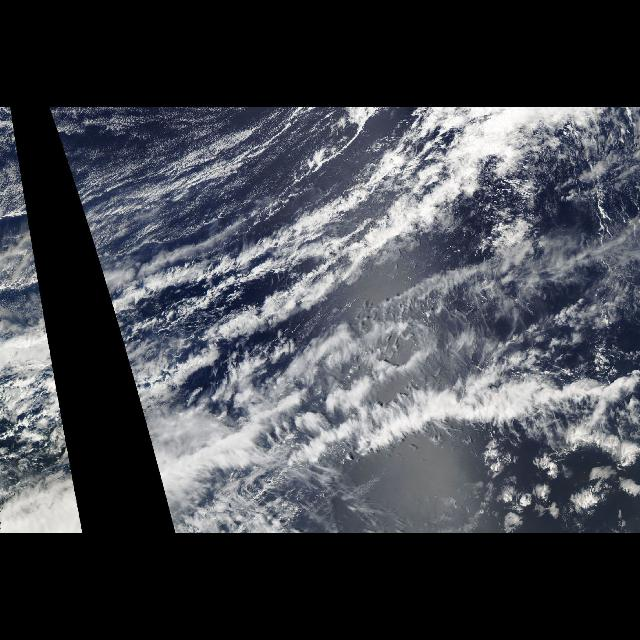Sugar: (49, 110, 349, 260), (1, 111, 36, 251)
